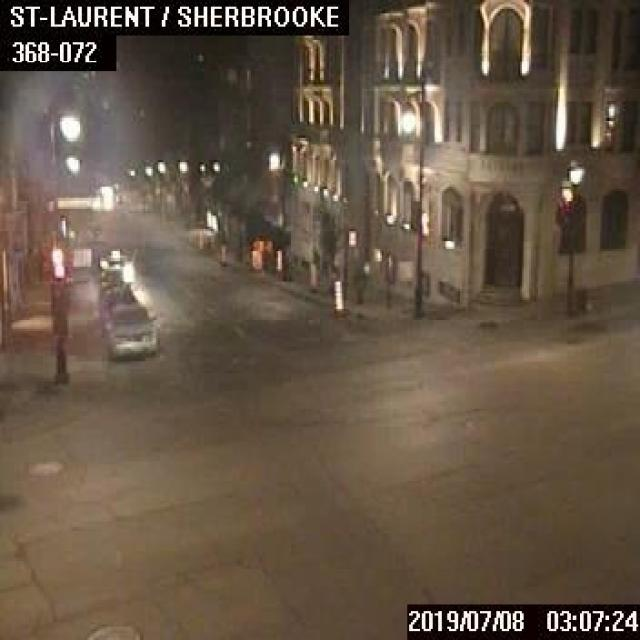construction: (331, 278, 345, 313), (272, 248, 281, 272), (218, 242, 227, 266)
vehicle: (94, 301, 154, 353), (98, 266, 128, 306), (98, 247, 132, 282)
